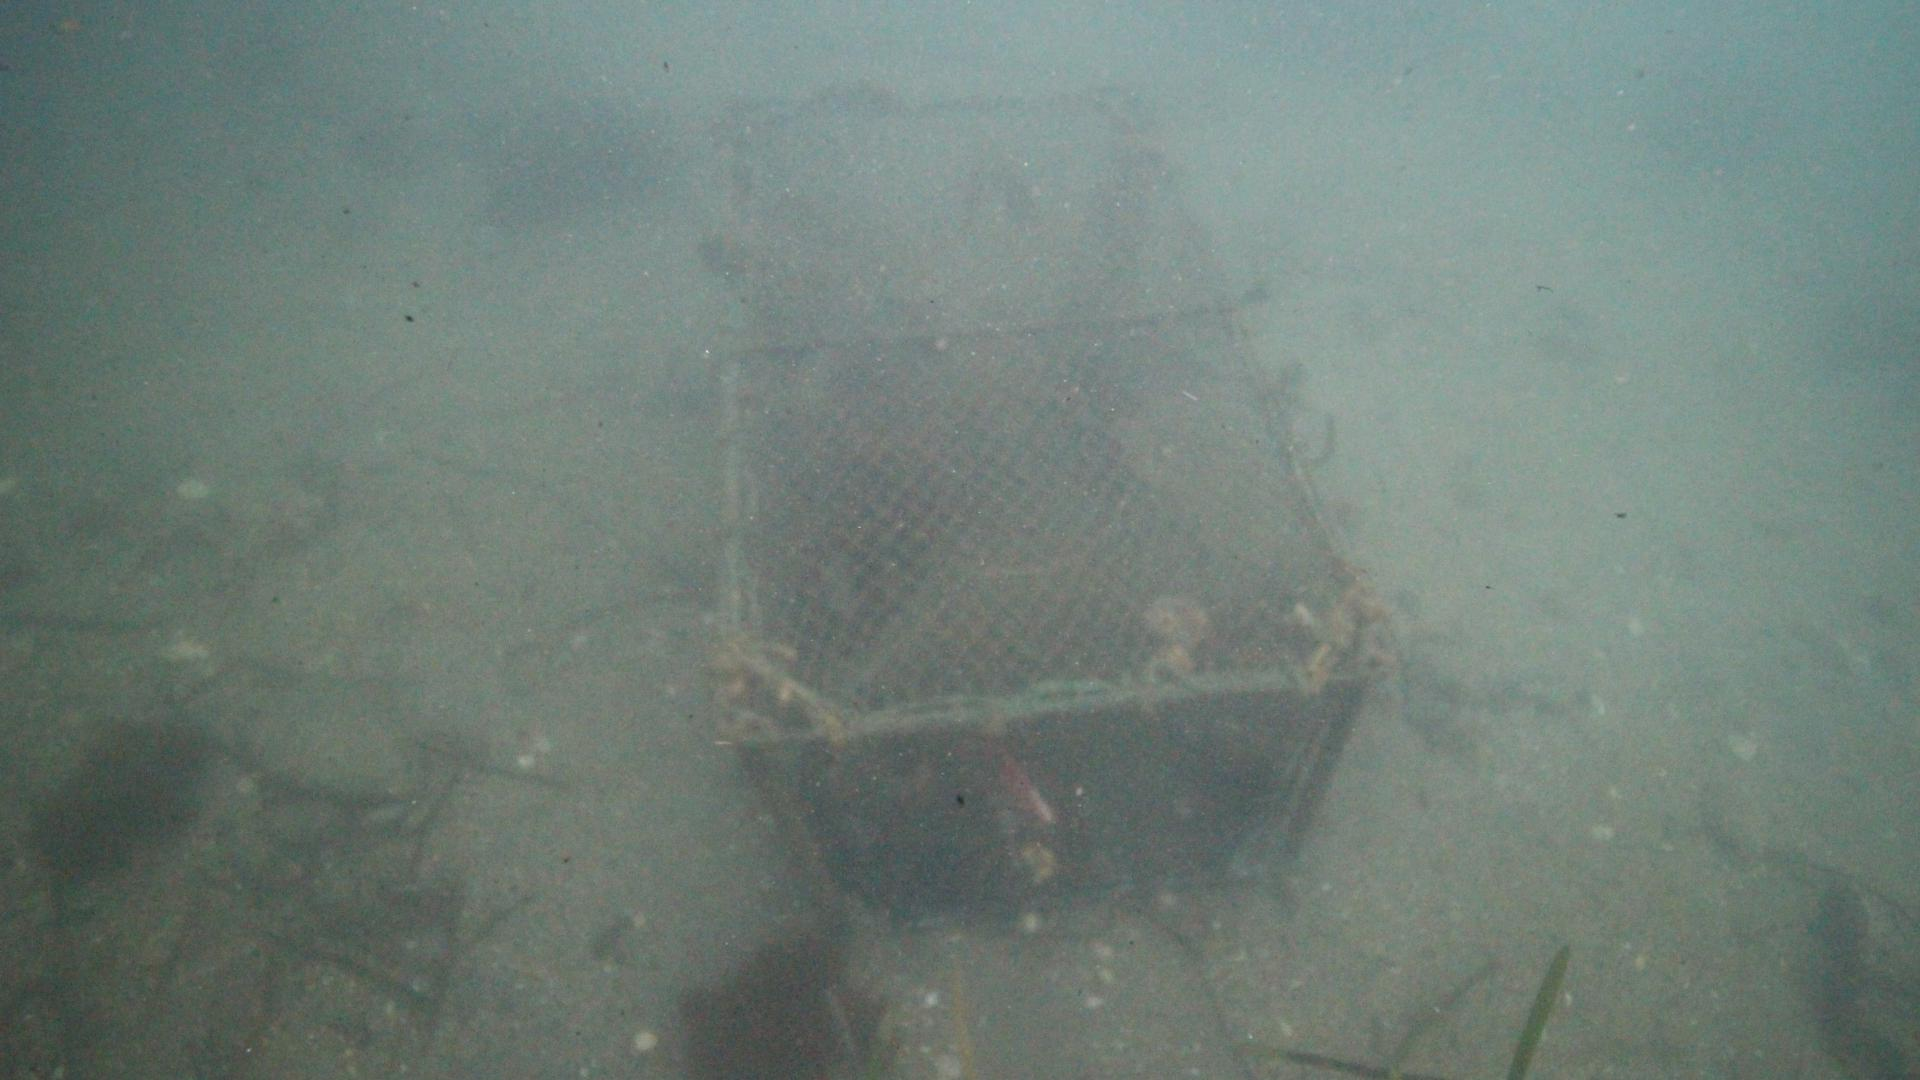rectangular fish trap: (696, 83, 1404, 967)
